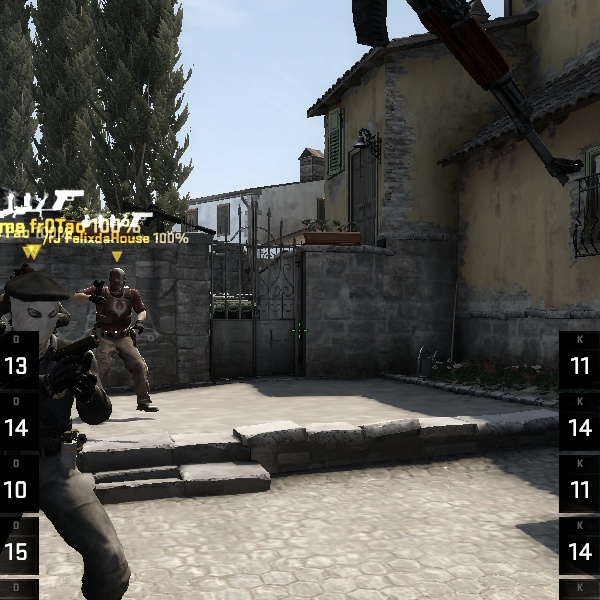t_body: (78, 265, 164, 418)
t_head: (98, 265, 132, 300)
